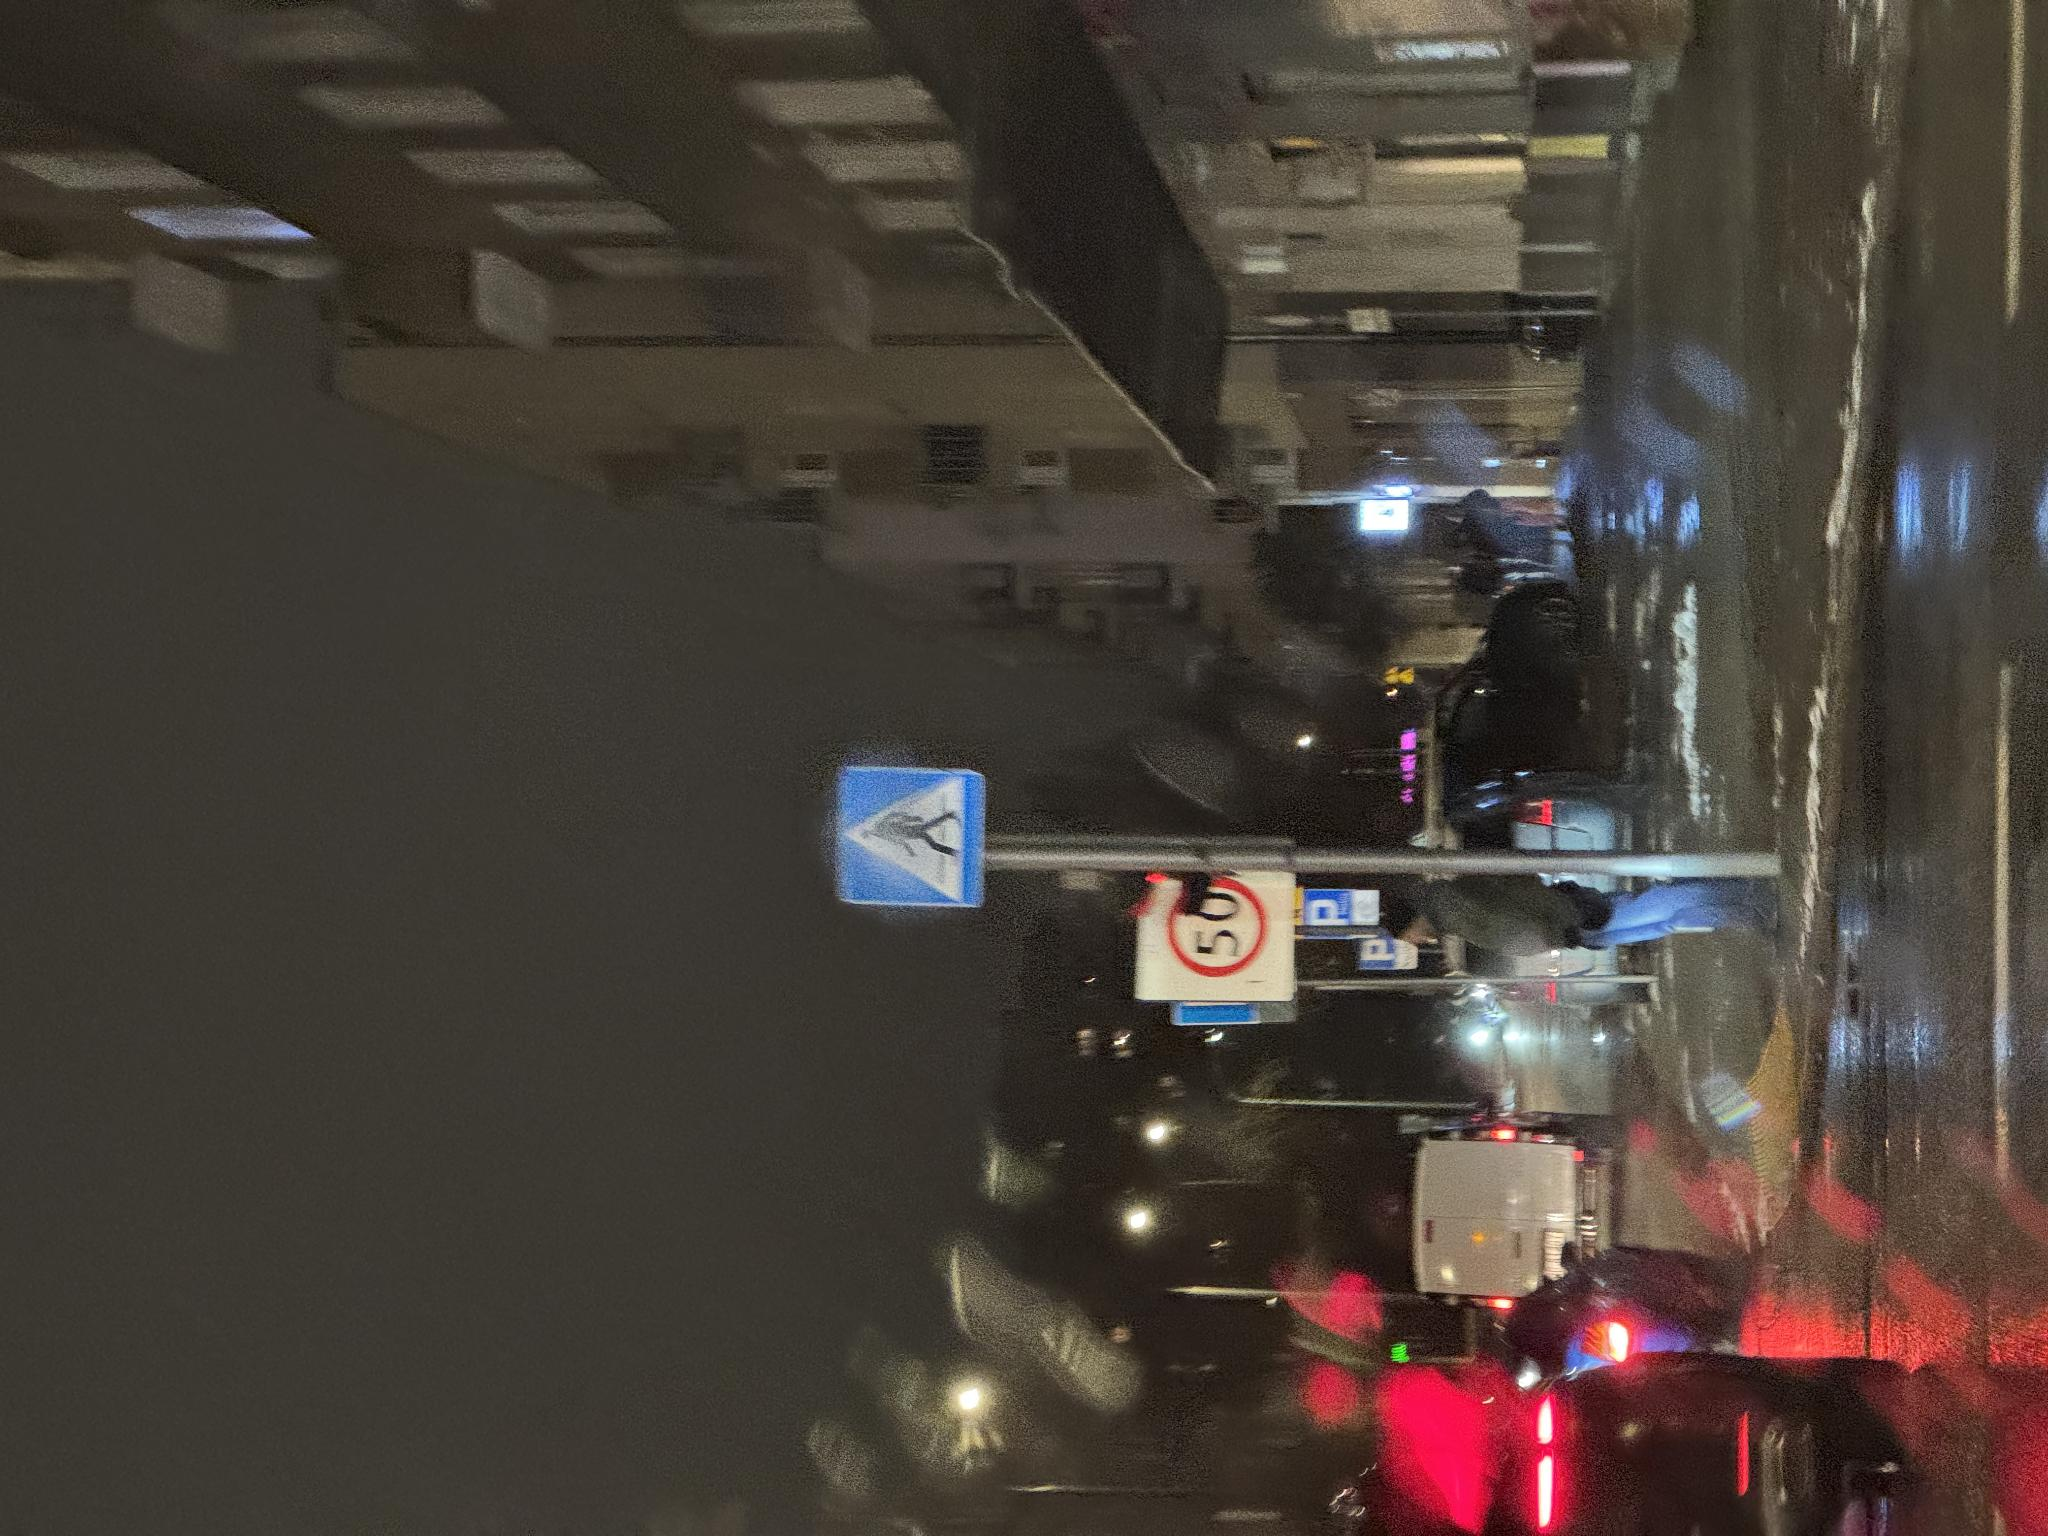information: (627, 828, 769, 984), (608, 1305, 650, 1350), (566, 1357, 600, 1392)
prohibitory: (537, 1139, 661, 1291)
